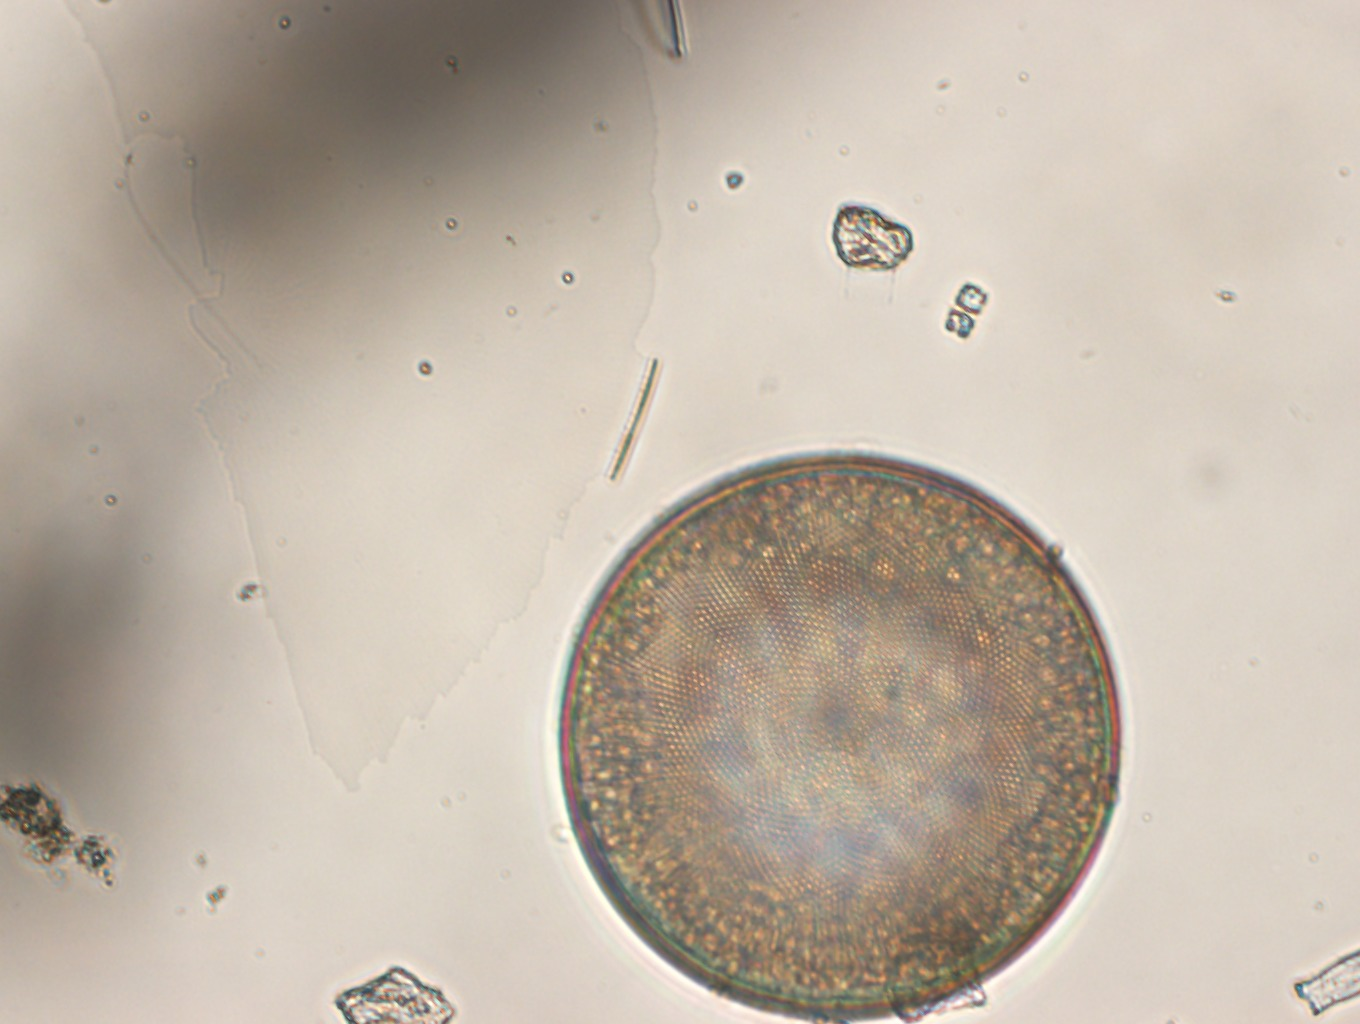coscinodiscus: (553, 450, 1122, 1024)
